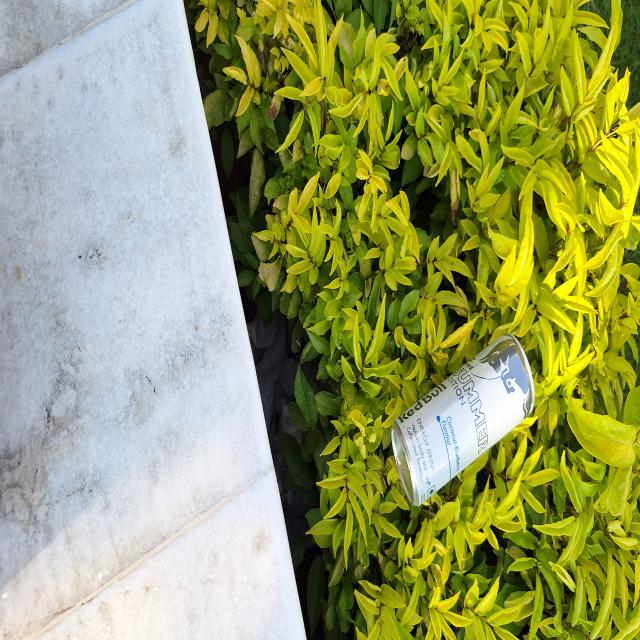Redbull Summer Edition: (390, 322, 539, 507)
